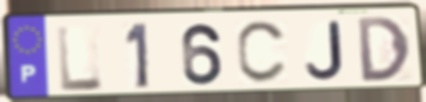1: (122, 21, 152, 92)
6: (179, 21, 226, 88)
C: (234, 18, 291, 86)
D: (355, 14, 414, 84)
J: (303, 19, 346, 82)
L: (55, 23, 106, 94)
